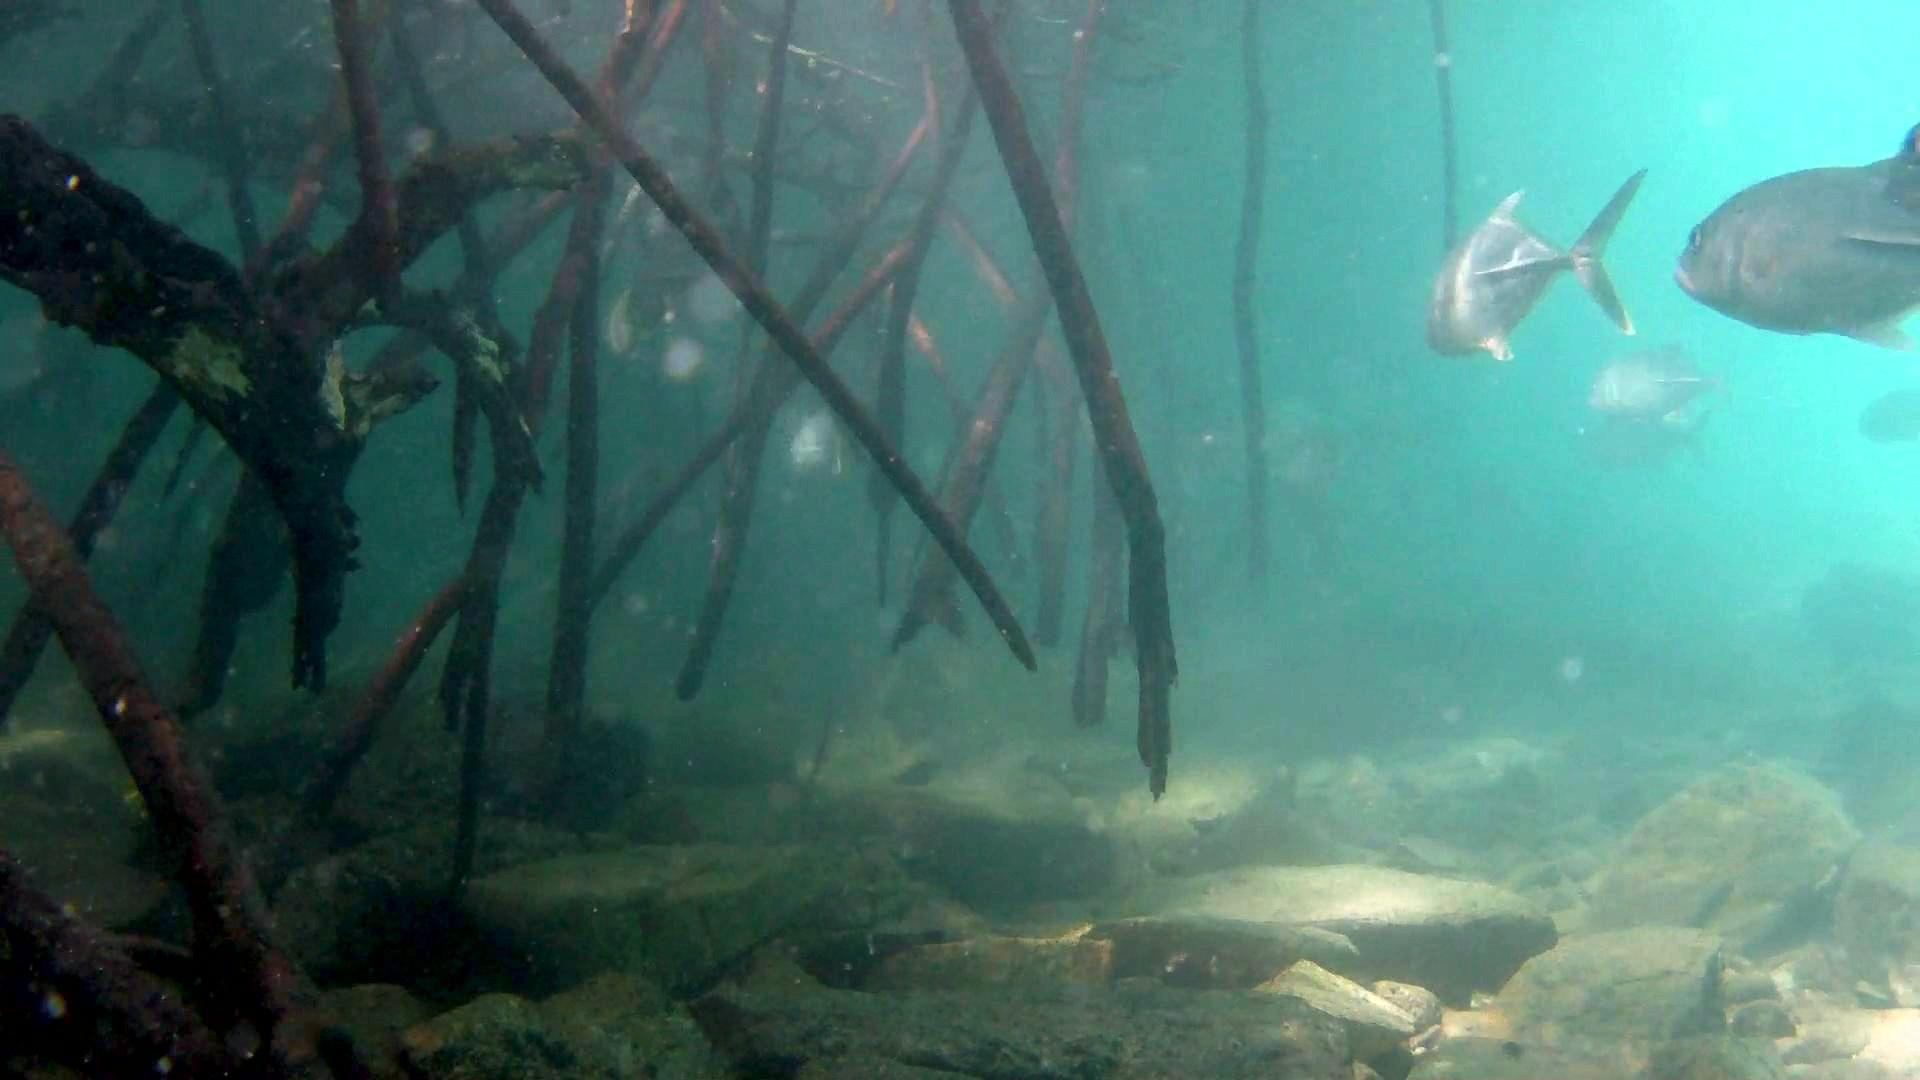caranx: (1673, 123, 1920, 367), (1418, 165, 1640, 373)
